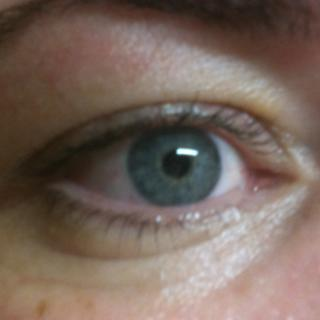pupil: (163, 150, 191, 178)
